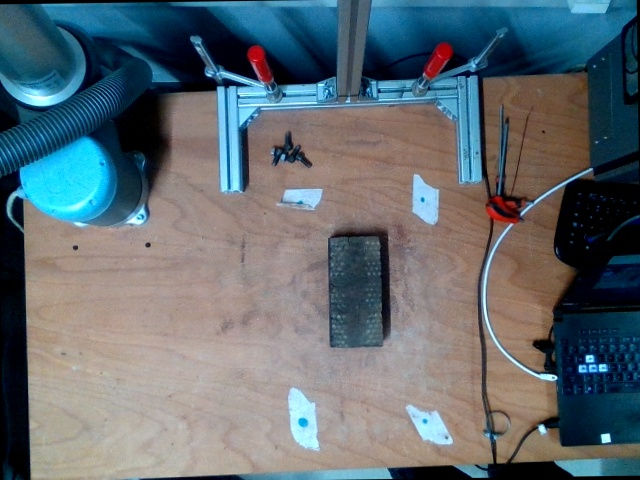brick: (330, 238, 381, 348)
